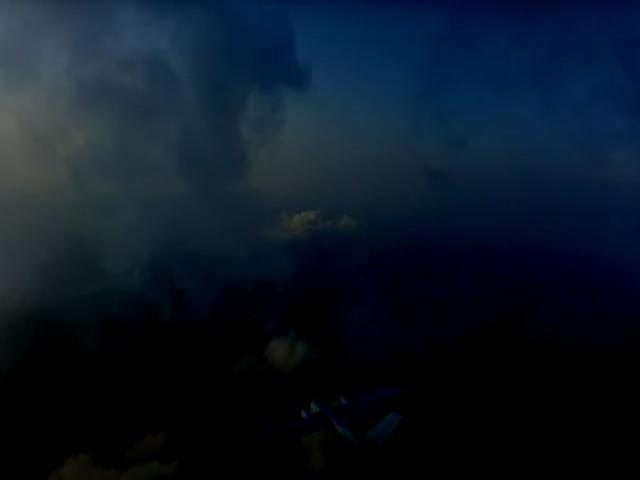iha: (248, 380, 418, 457)
